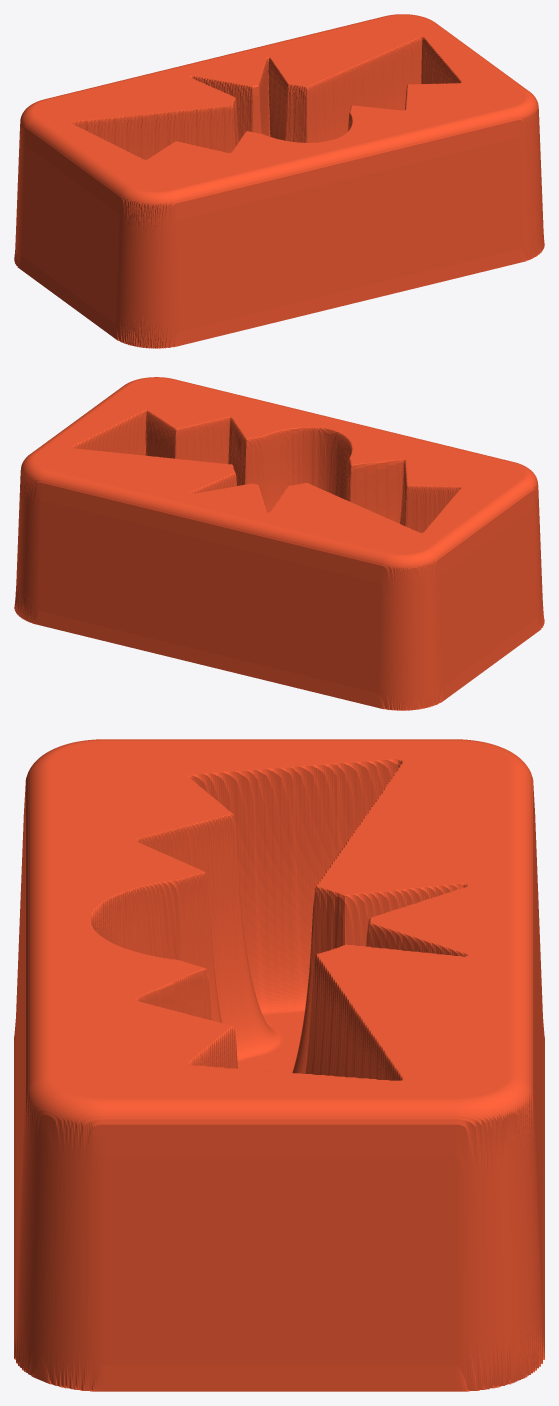
The model's file is mold.glb.
The picture shows the model from 3 angles, top to bottom: view 1: azimuth 30°, elevation 25°; view 2: azimuth 150°, elevation 25°; view 3: azimuth 270°, elevation 25°; orthographic projection. The views are drawn at different scales.
Parts seen in each view (by area): view 1: geometry_0; view 2: geometry_0; view 3: geometry_0.
Boxes of the visible parts, x1=… form: geometry_0: x1=14, y1=14, x2=544, y2=348; geometry_0: x1=14, y1=377, x2=544, y2=710; geometry_0: x1=14, y1=739, x2=544, y2=1391.
Size of the model in its own units: 0.0924 by 0.031 by 0.0536.
